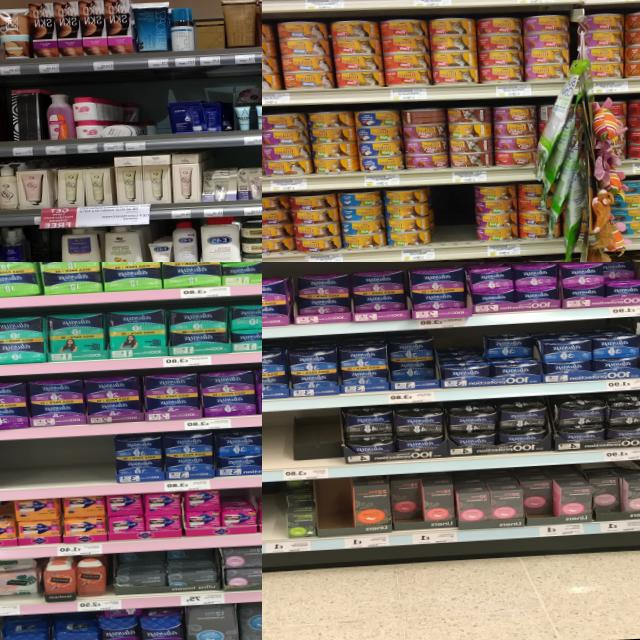100- O.O.S: (0, 436, 115, 501), (434, 184, 474, 260), (262, 410, 294, 483), (262, 494, 286, 554), (152, 98, 172, 149), (33, 228, 62, 262), (0, 90, 12, 156)
